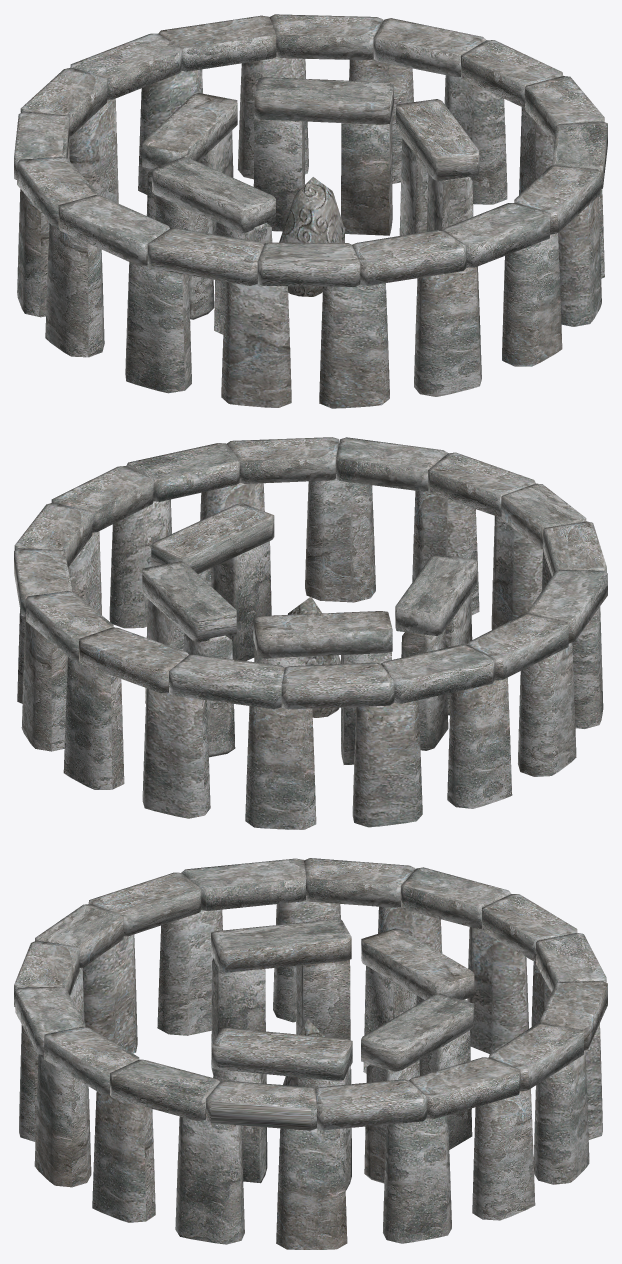
File: stone_monument.dae
3 renders of one model, top to bottom at view 1: azimuth 30°, elevation 25°; view 2: azimuth 150°, elevation 25°; view 3: azimuth 270°, elevation 25°, orthographic.
Visible parts, largest first — view 1: default09-Pivot; view 2: default09-Pivot; view 3: default09-Pivot.
Boxes of the visible parts, x1,y1,x2,y2 form: default09-Pivot: (14,14,607,408); default09-Pivot: (14,437,607,829); default09-Pivot: (14,858,607,1249).
Bounding box in the file's own units: 28.74 × 28.74 × 7.66.
